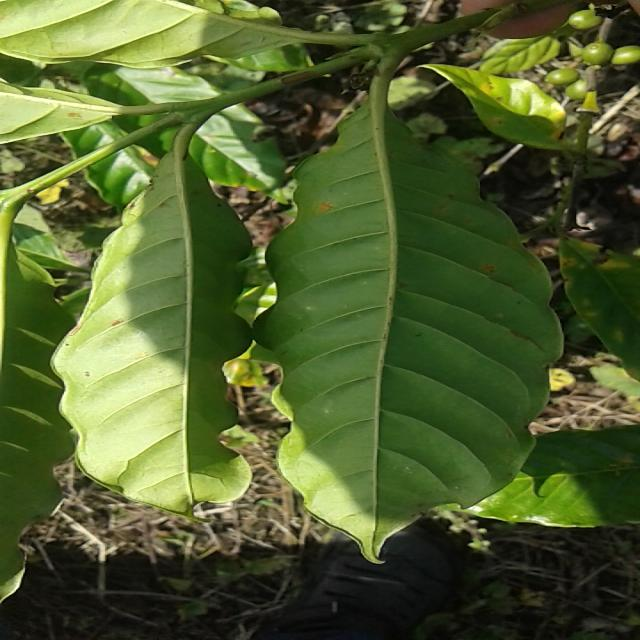Enfermedad-Roya: (256, 80, 565, 562)
